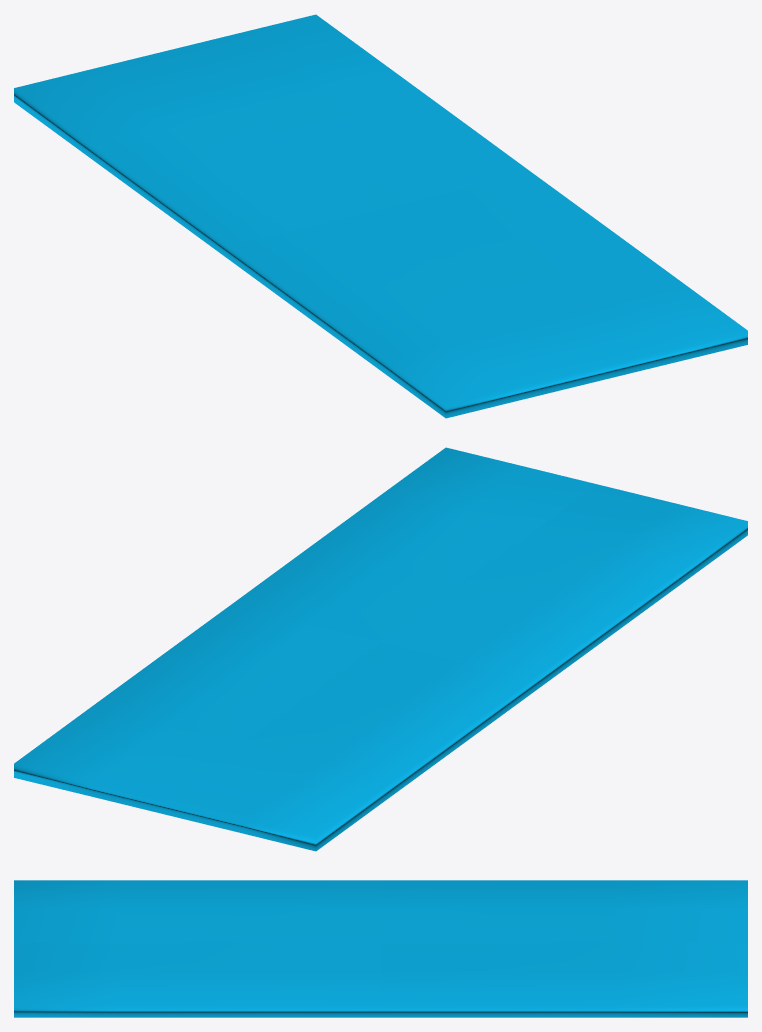
Rendered from Table_Large_02.fbx.
The picture shows the model from 3 angles, top to bottom: view 1: azimuth 30°, elevation 25°; view 2: azimuth 150°, elevation 25°; view 3: azimuth 270°, elevation 25°; orthographic projection. The views are drawn at different scales.
Visible parts, largest first — view 1: Table_Large_02; view 2: Table_Large_02; view 3: Table_Large_02.
Boxes of the visible parts, x1=… form: Table_Large_02: x1=14, y1=14, x2=747, y2=418; Table_Large_02: x1=14, y1=447, x2=747, y2=851; Table_Large_02: x1=14, y1=880, x2=747, y2=1017.
Bounding box in the file's own units: 160 × 8.54 × 397.
